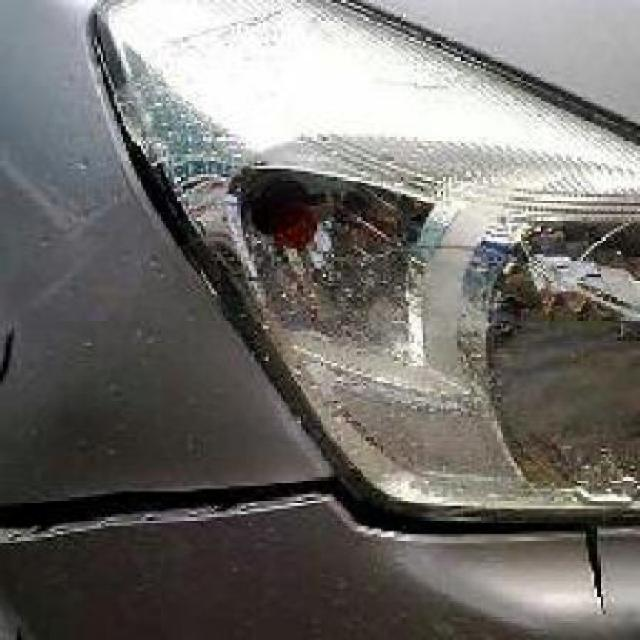damaged-head-light: (97, 0, 637, 523)
